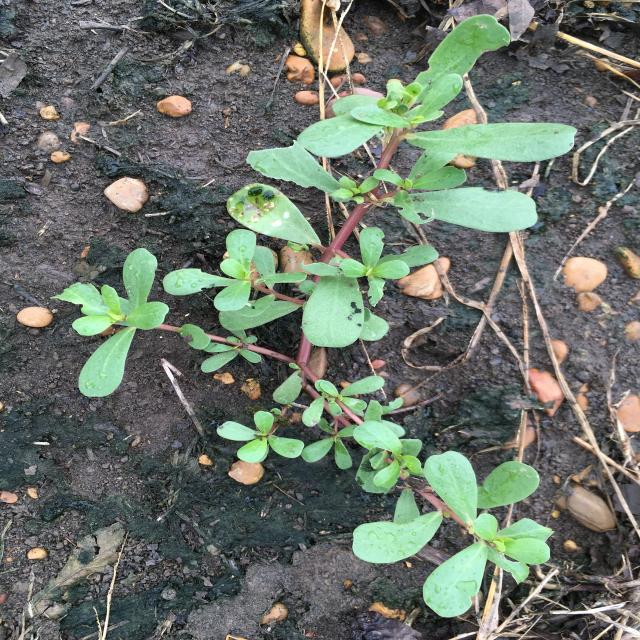Purslane: (51, 14, 578, 617)
